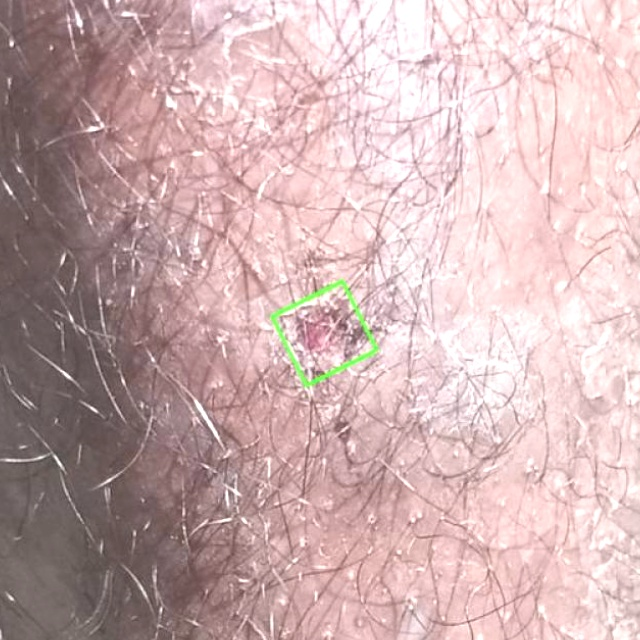Eczema: (271, 281, 376, 385)
